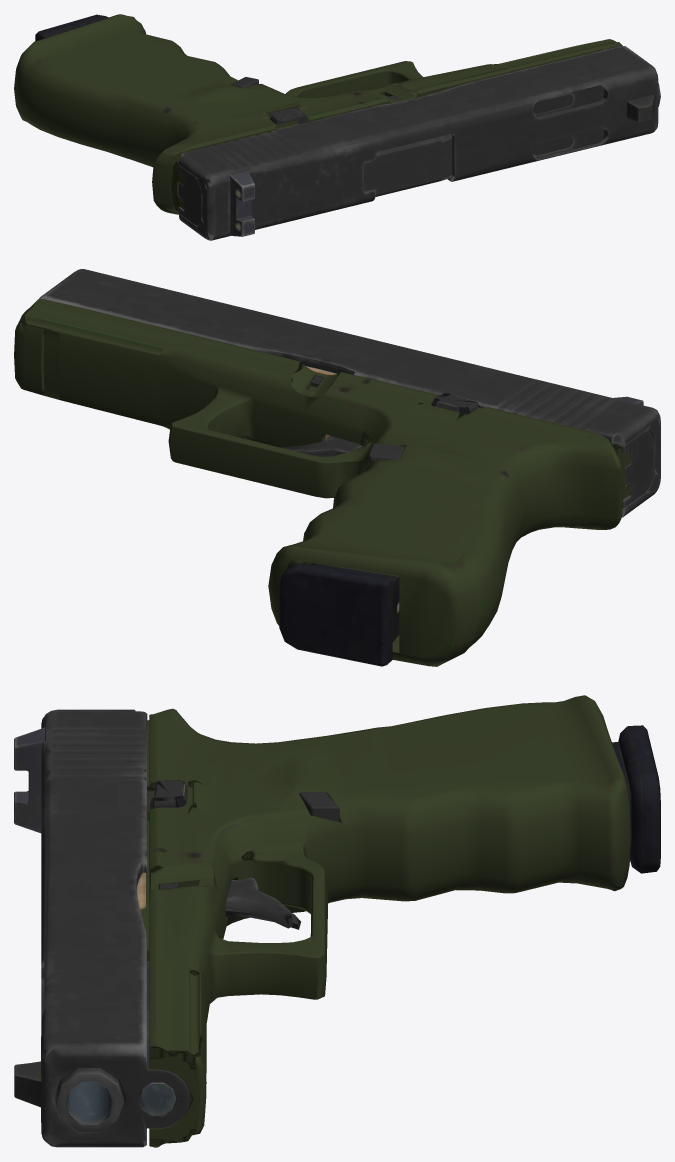
File: Glock_0.glb
3 views of the same model, one above another, from view 1: azimuth 30°, elevation 25°; view 2: azimuth 150°, elevation 25°; view 3: azimuth 270°, elevation 25° (orthographic). The views are drawn at different scales.
Parts seen in each view (by area): view 1: Glock_upd_slider, Glock_upd_main, Glock_upd_mag; view 2: Glock_upd_main, Glock_upd_slider, Glock_upd_mag; view 3: Glock_upd_main, Glock_upd_slider, Glock_upd_mag.
Part boxes in pixels (box(x1,y1,x2,y2)): Glock_upd_slider: box(178, 46, 658, 240); Glock_upd_main: box(14, 14, 660, 214); Glock_upd_mag: box(35, 14, 108, 41); Glock_upd_main: box(14, 298, 631, 666); Glock_upd_slider: box(39, 269, 660, 517); Glock_upd_mag: box(279, 563, 399, 666); Glock_upd_main: box(55, 695, 630, 1147); Glock_upd_slider: box(14, 709, 190, 1147); Glock_upd_mag: box(232, 725, 660, 879).
Bounding box in the file's own units: 0.1717 × 0.0276 × 0.1289.
Materials: 1 (1 with a texture image).
